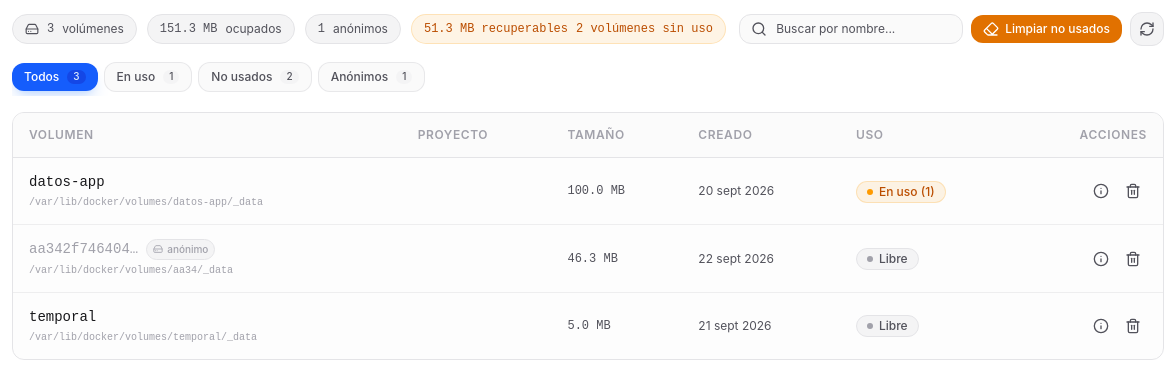
VolumesView › filtra por volúmenes en uso
Expected: the text "datos-app" is shown, top-left (29, 172), bottom-right (105, 192)
Click the button "En uso 1": (148, 77) top-left (104, 62), bottom-right (192, 92)
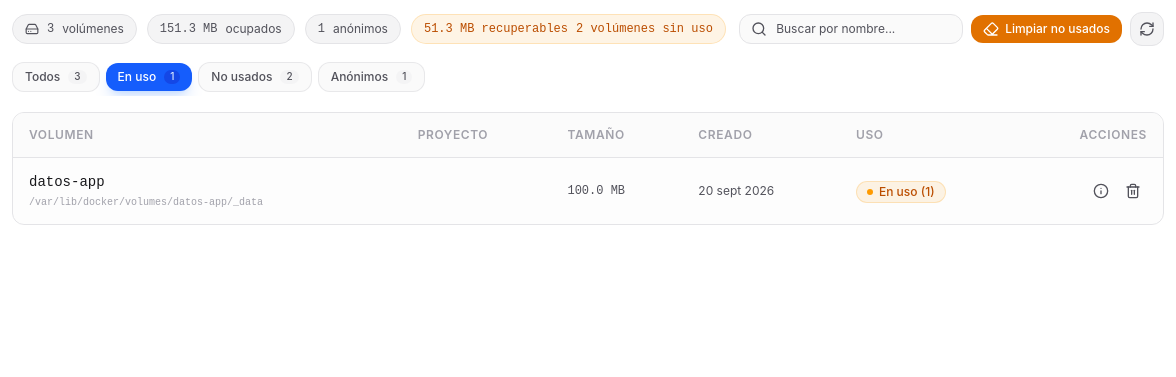
Expected: the text "datos-app" is shown, top-left (29, 172), bottom-right (105, 192)
Now the text "temporal" is gone
Now the text "aa342f746404" is gone
